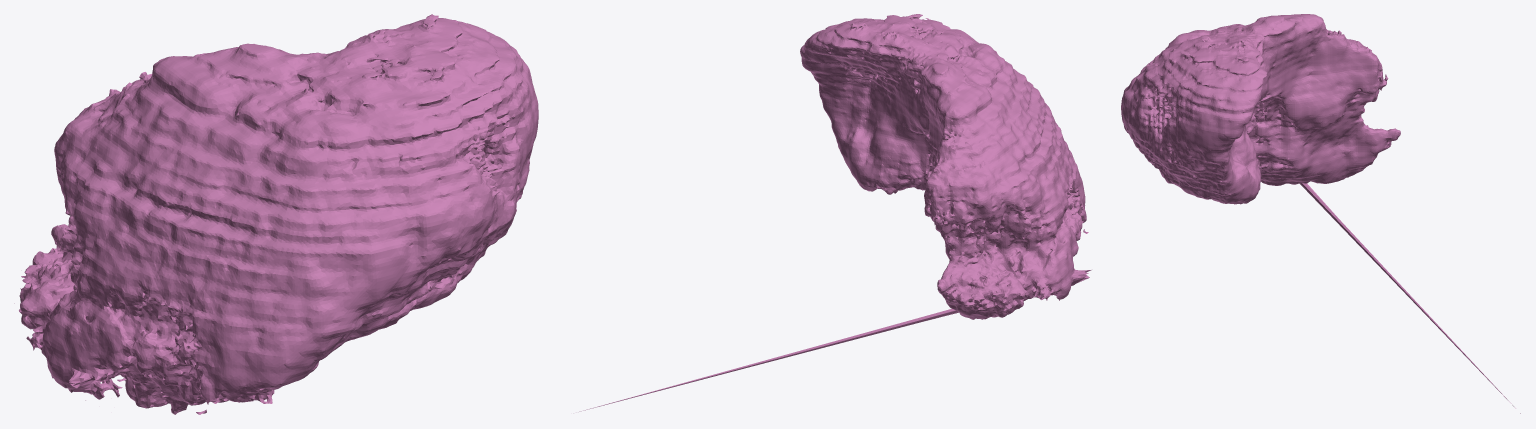
The model's file is organ-spleen.glb.
3 renders of one model, left to right at view 1: azimuth 30°, elevation 25°; view 2: azimuth 150°, elevation 25°; view 3: azimuth 270°, elevation 25°, orthographic. The views are drawn at different scales.
Parts seen in each view (by area): view 1: geometry_0; view 2: geometry_0; view 3: geometry_0.
Boxes of the visible parts, bbox=[...] form: geometry_0: bbox=[14, 14, 538, 414]; geometry_0: bbox=[579, 14, 1091, 411]; geometry_0: bbox=[1121, 14, 1520, 413].
Bounding box in the file's own units: 0.1306 × 0.1047 × 0.129.
